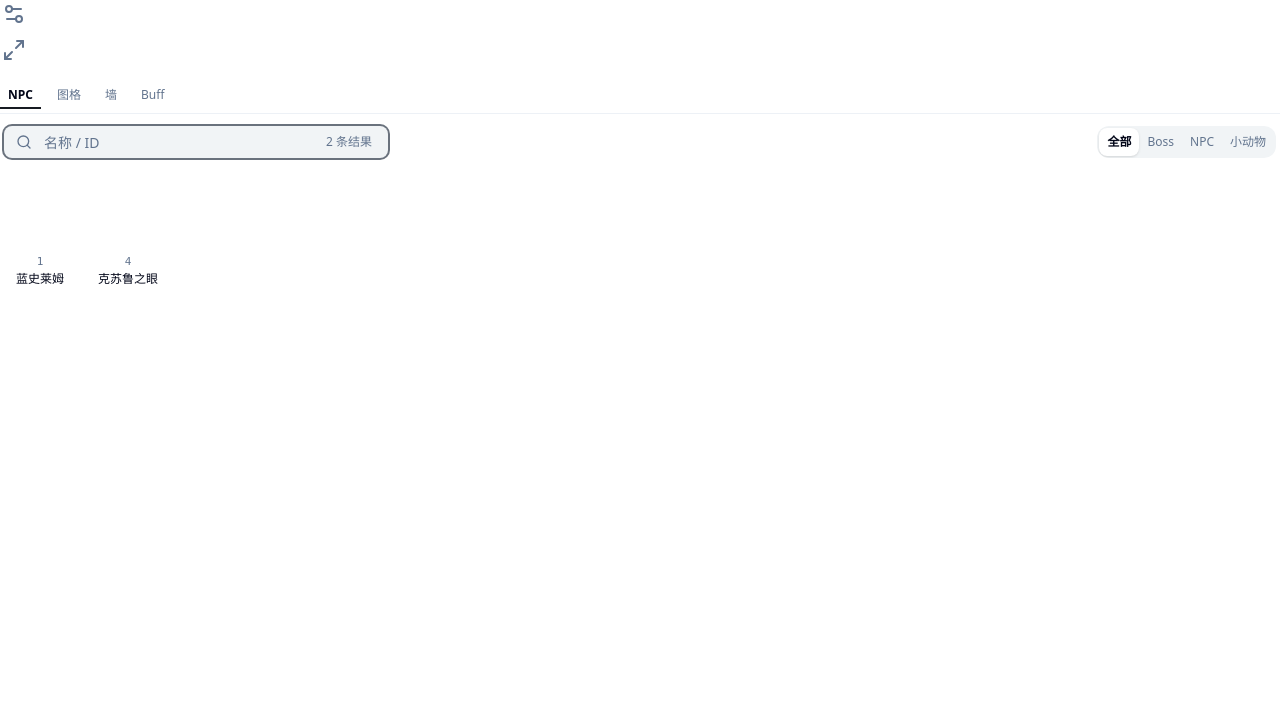
Test: DataIdPage › 默认展示 NPC 网格（名称 + ID），进入即聚焦搜索框
Check: the button titled "蓝史莱姆 #1" is shown, box x1=4 y1=180 x2=76 y2=287
Check: the button titled "克苏鲁之眼 #4" is shown, box x1=92 y1=180 x2=164 y2=287
What coordinates should you click on to do the following:
click the button named "页面设置"
I would click on:
 (14, 14)
Its box is x1=0 y1=0 x2=28 y2=28.
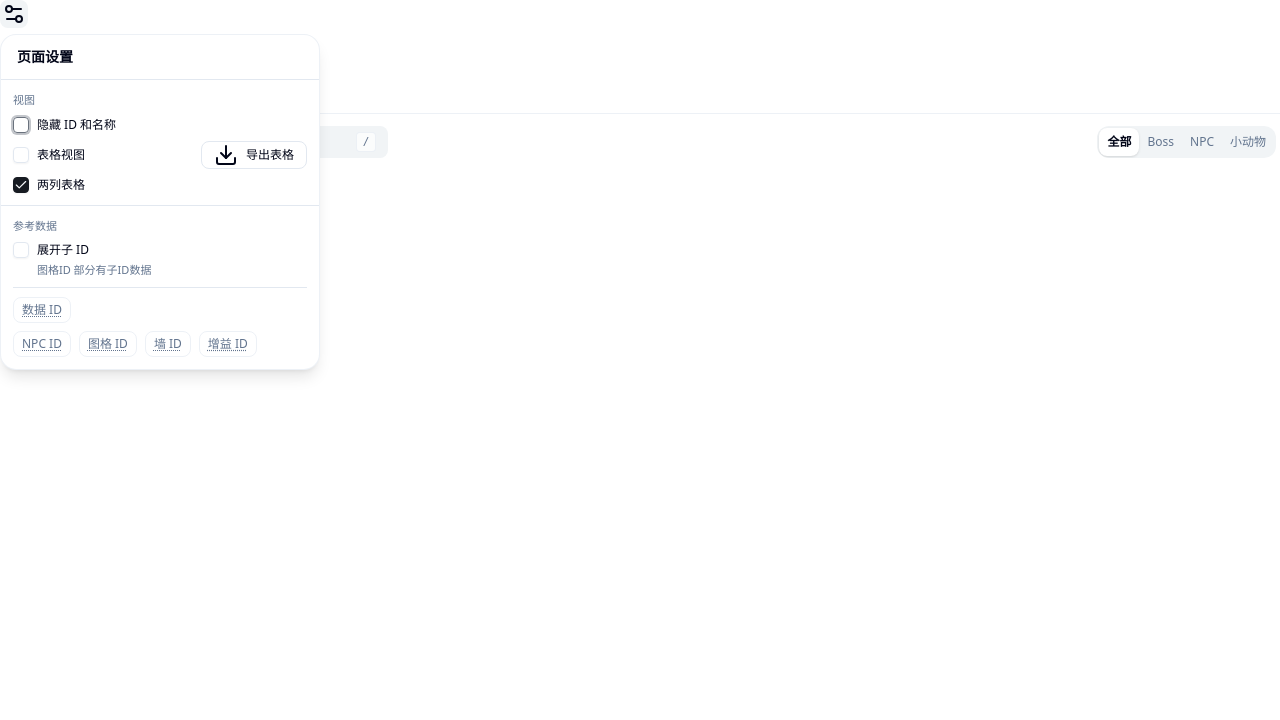
Check: the text "参考数据" is shown, box x1=13 y1=218 x2=57 y2=232
Check: the button "导出表格" is shown, box x1=201 y1=140 x2=307 y2=168
